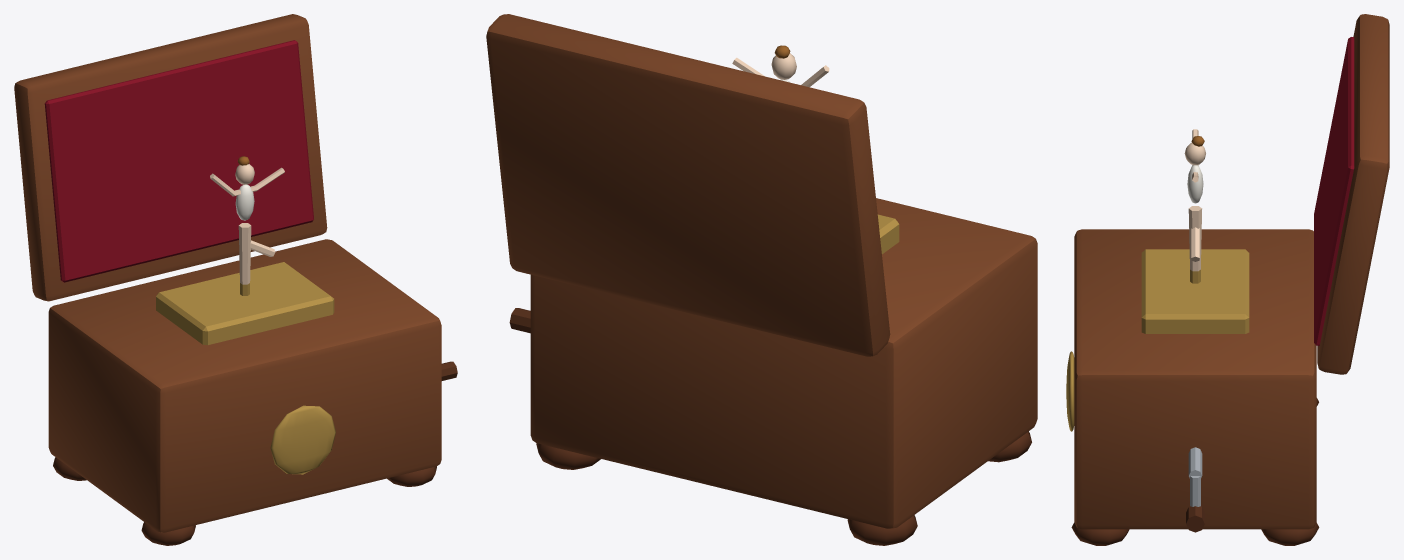
File: PR_MusicBox.fbx
3 views of the same model, side by side, from view 1: azimuth 30°, elevation 25°; view 2: azimuth 150°, elevation 25°; view 3: azimuth 270°, elevation 25° (orthographic). The views are drawn at different scales.
Parts seen in each view (by area): view 1: PR_MusicBox_Wood, Lid.002_Velvet, Lid.002_Wood, PR_MusicBox_Brass, PR_MusicBox_WoodDark, PR_MusicBox_Skin, PR_MusicBox_Tutu; view 2: PR_MusicBox_Wood, Lid.002_Wood, PR_MusicBox_WoodDark, PR_MusicBox_Skin; view 3: PR_MusicBox_Wood, Lid.002_Wood, PR_MusicBox_Brass, Lid.002_Velvet, PR_MusicBox_WoodDark, PR_MusicBox_Skin, PR_MusicBox_Steel, PR_MusicBox_Tutu.
Boxes of the visible parts, x1,y1,x2,y2 form: PR_MusicBox_Wood: (48,239,441,532); Lid.002_Velvet: (44,40,313,282); Lid.002_Wood: (14,14,327,301); PR_MusicBox_Brass: (156,262,335,474); PR_MusicBox_WoodDark: (53,361,457,545); PR_MusicBox_Skin: (210,164,284,284); PR_MusicBox_Tutu: (235,184,254,220); PR_MusicBox_Wood: (530,198,1037,528); Lid.002_Wood: (486,14,890,356); PR_MusicBox_WoodDark: (509,308,1031,545); PR_MusicBox_Skin: (732,53,829,87); PR_MusicBox_Wood: (1074,229,1316,529); Lid.002_Wood: (1317,14,1389,374); PR_MusicBox_Brass: (1066,249,1249,431); Lid.002_Velvet: (1314,37,1354,345); PR_MusicBox_WoodDark: (1071,398,1319,545); PR_MusicBox_Skin: (1184,129,1205,271); PR_MusicBox_Steel: (1188,447,1202,506); PR_MusicBox_Tutu: (1187,165,1203,203).
Size of the model in its own units: 0.3209 by 0.3233 by 0.2403.
